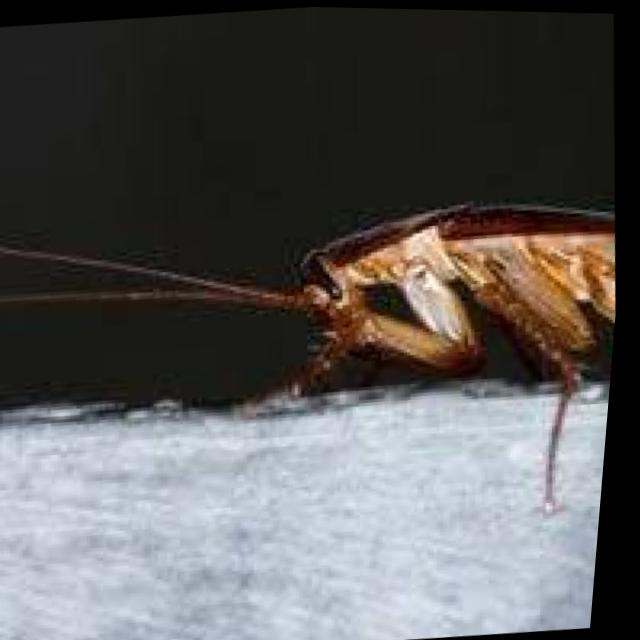Cockroach: (0, 153, 630, 564)
